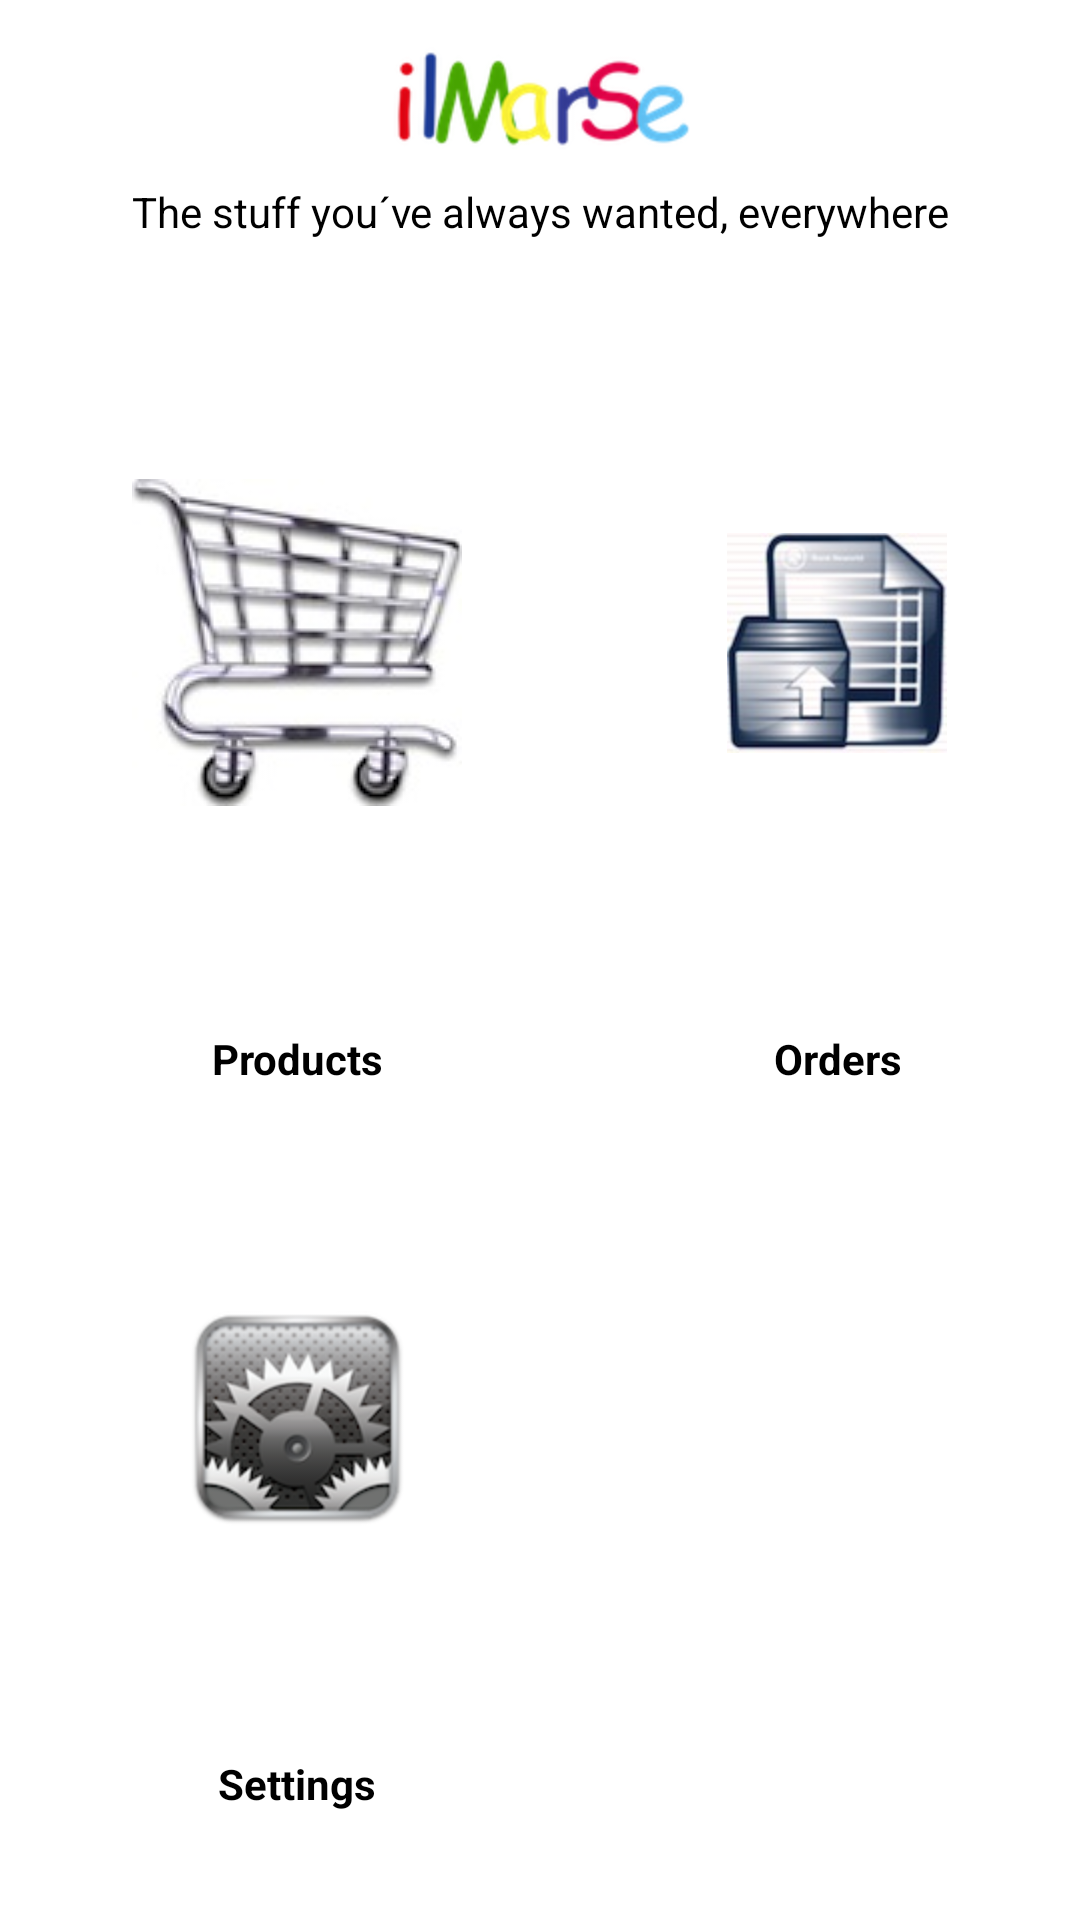

Screen size 1080w x 1920h. Icon name, then its box in pixels as (x1=x1, y1=y1, x2=x2, y2=y2):
producticon: (x1=132, y1=479, x2=462, y2=806)
